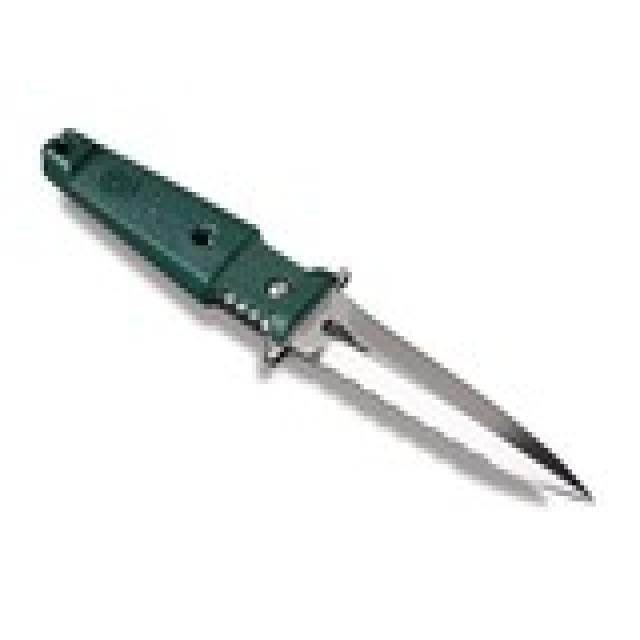Knife: (38, 102, 598, 515)
